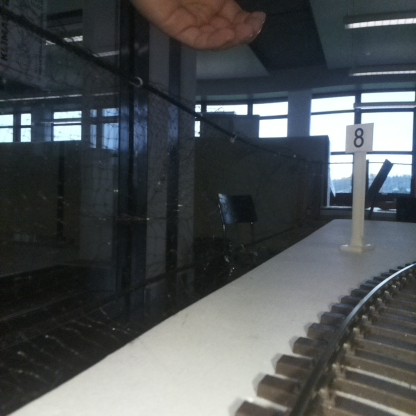white-info-8: (346, 125, 372, 251)
